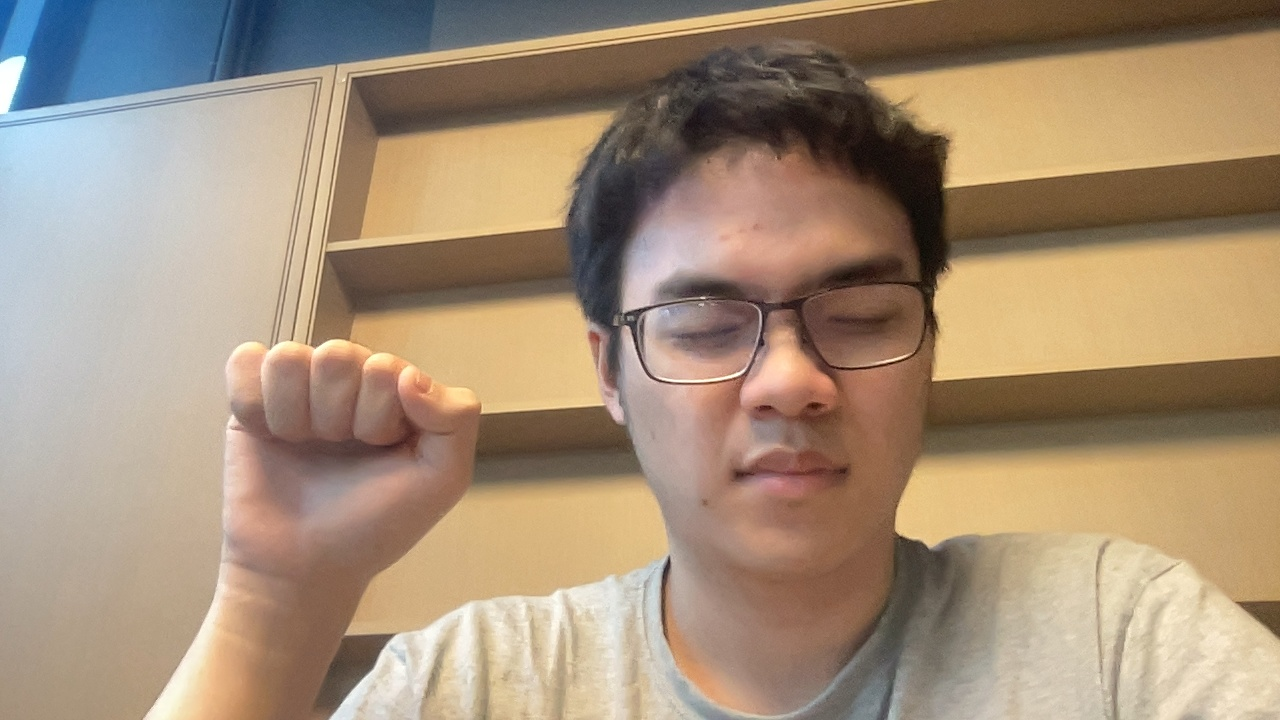yes: (195, 311, 507, 614)
